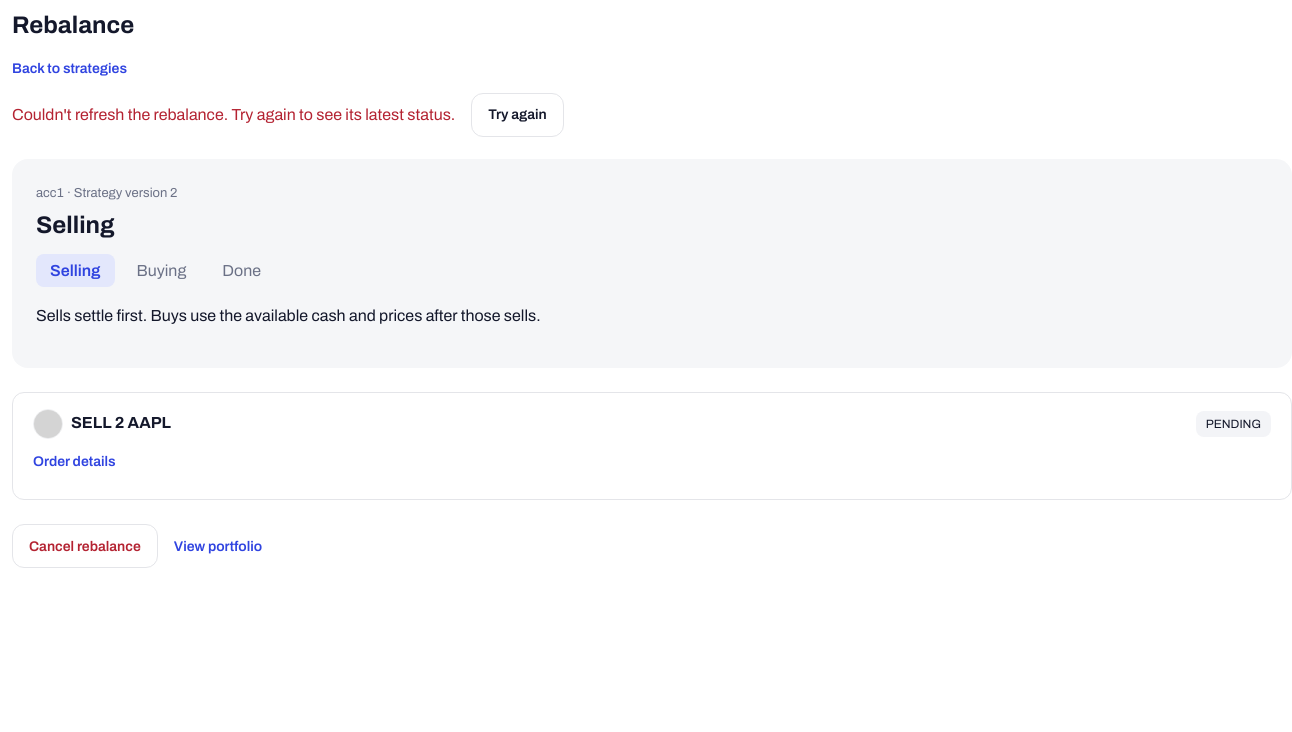
RebalanceRunComponent › keeps the last status on a polling failure and retries
Expected: the list with class "legs" is shown, [12, 392, 1291, 500]
Click the button "Try again" at (517, 114), box [471, 92, 564, 136]
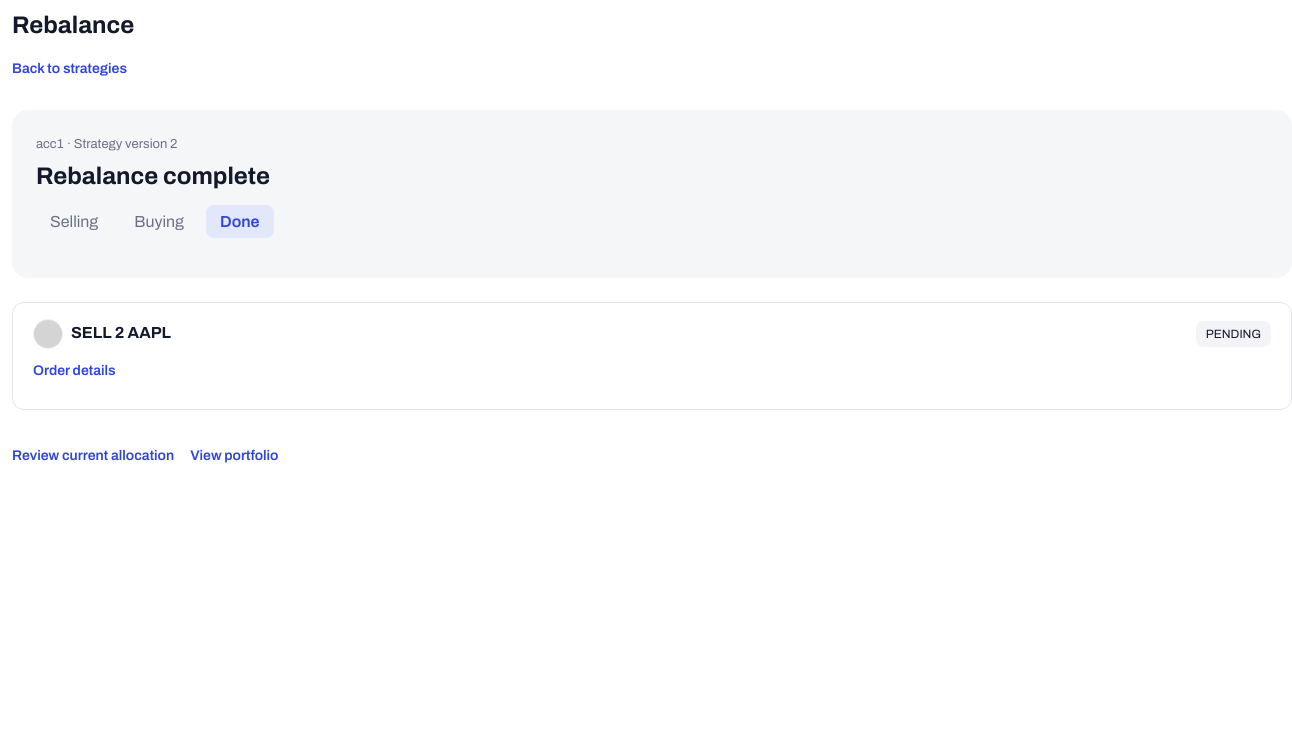
Result: the heading "Rebalance complete" is shown at [36, 163, 270, 189]
